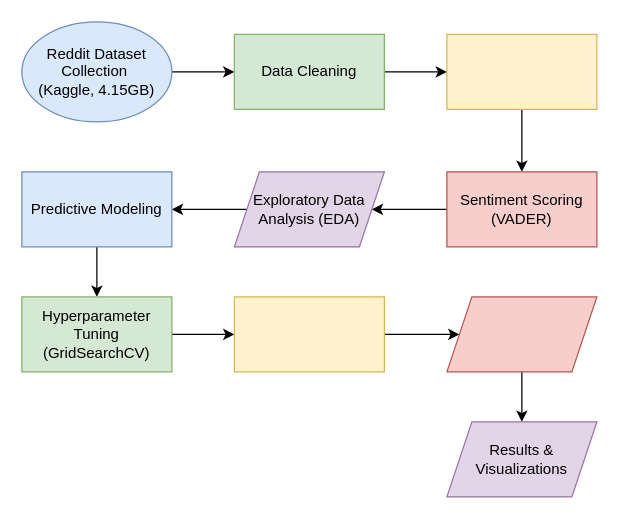
The diagram is 619 pixels wide and 519 high, and some of its shapes have lost their labels. The box of each missing label's shape, as (x1, y1, x2, y2) in pixels:
Feature Engineering: (446, 33, 597, 109)
Performance Evaluations (R², ROC-AUC, MCC): (446, 296, 597, 372)
Validation (k-Fold, StratifiedKFold): (233, 296, 384, 372)
